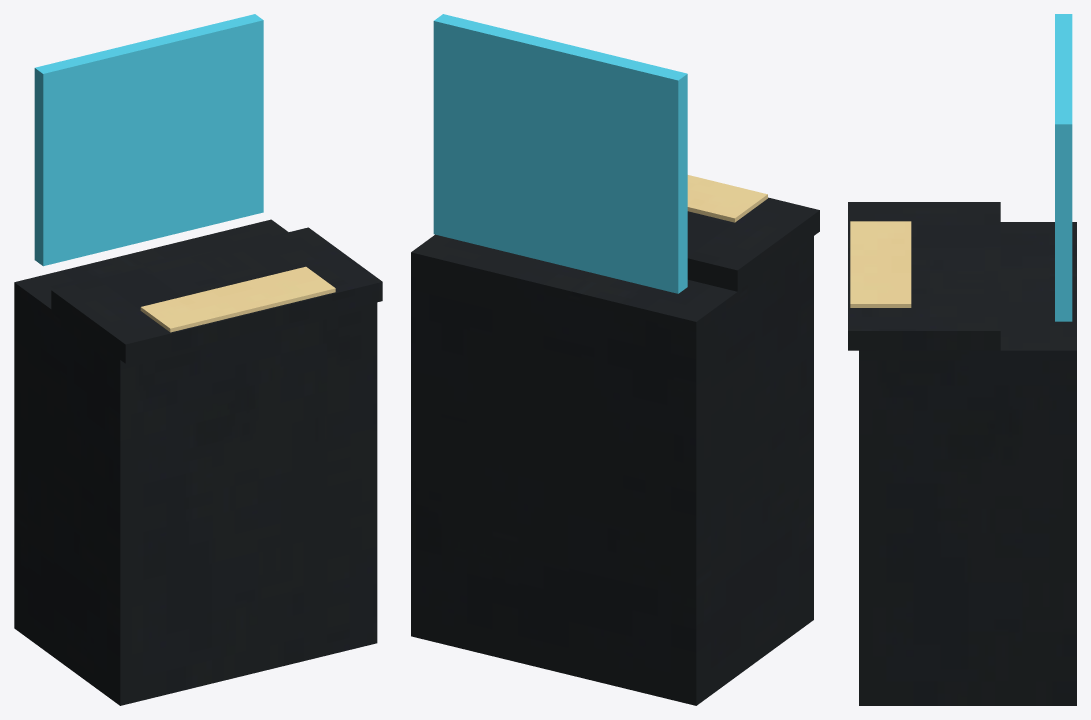
The model's file is terminal_01.glb.
3 renders of one model, left to right at view 1: azimuth 30°, elevation 25°; view 2: azimuth 150°, elevation 25°; view 3: azimuth 270°, elevation 25°, orthographic. The views are drawn at different scales.
Parts seen in each view (by area): view 1: terminal_01; view 2: terminal_01; view 3: terminal_01.
Boxes of the visible parts, x1,y1,x2,y2 form: terminal_01: (14, 14, 382, 705); terminal_01: (411, 14, 819, 705); terminal_01: (848, 14, 1076, 705).
Size of the model in its own units: 0.6999 by 1.45 by 0.525.
3 materials, 2 textured.
